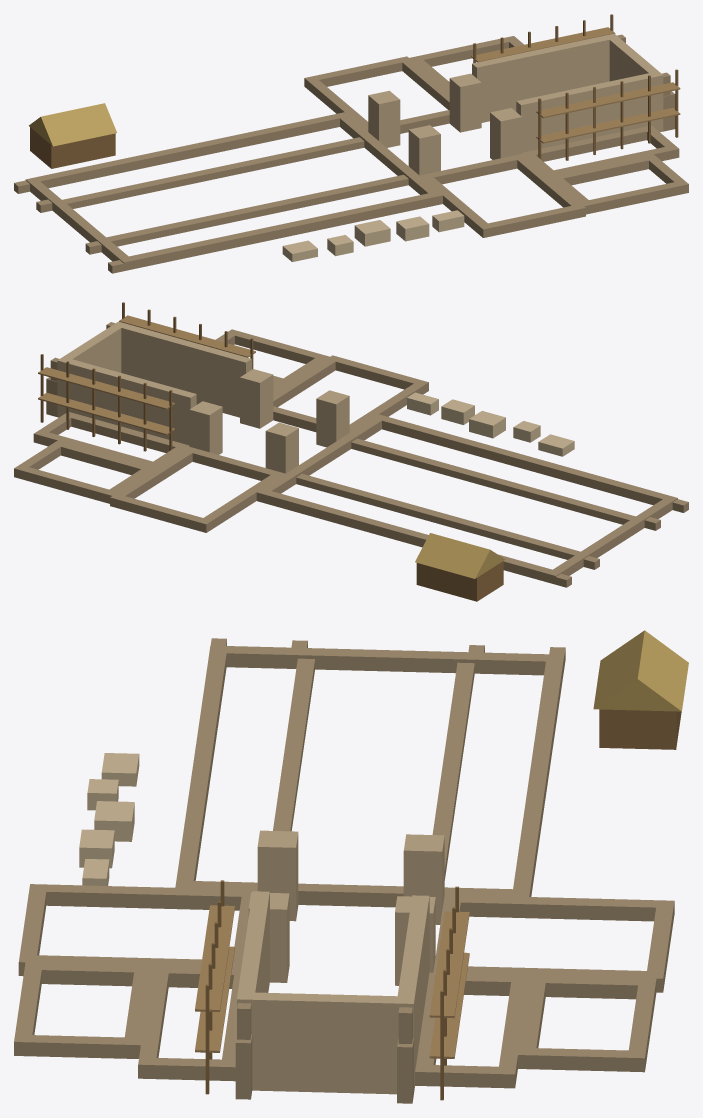
Rendered from crooked-spire-b10.glb.
3 views of the same model, one above another, from view 1: azimuth 30°, elevation 25°; view 2: azimuth 150°, elevation 25°; view 3: azimuth 270°, elevation 25° (orthographic). The views are drawn at different scales.
Bounding box in the file's own units: 5.56 × 0.62 × 3.5.
